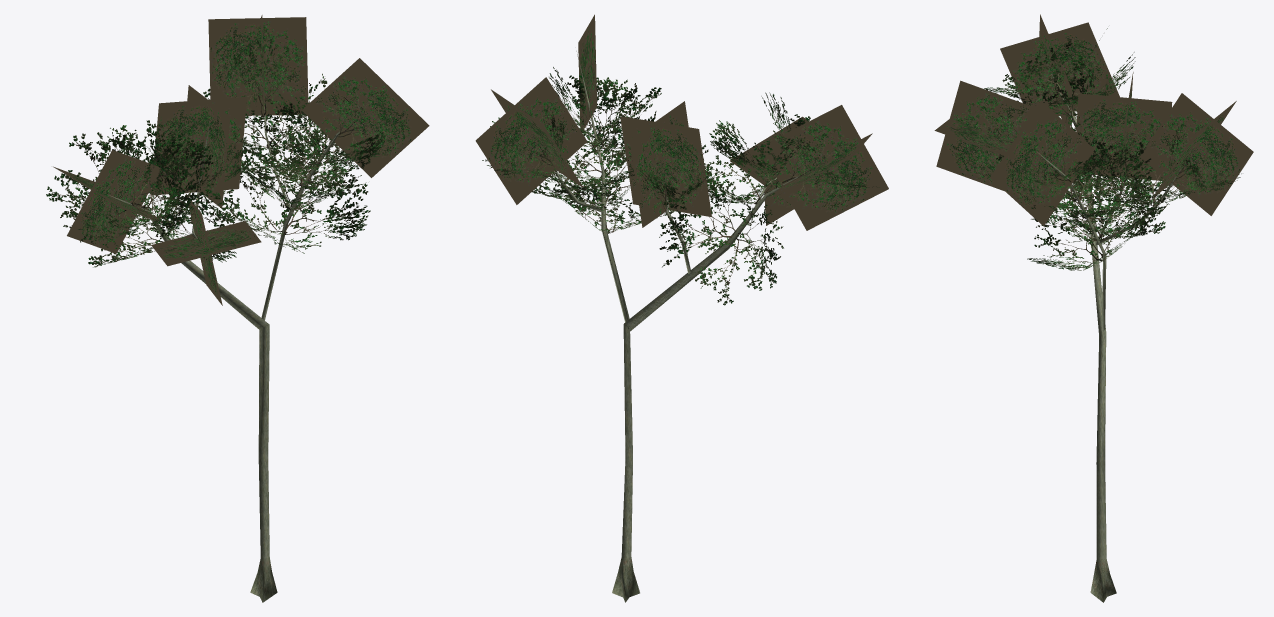
File: nboo_decd_cambylictustree_a1_l1.fbx
3 renders of one model, left to right at view 1: azimuth 30°, elevation 25°; view 2: azimuth 150°, elevation 25°; view 3: azimuth 270°, elevation 25°, orthographic. The views are drawn at different scales.
Visible parts, largest first — view 1: mesh_node; view 2: mesh_node; view 3: mesh_node.
Part boxes in pixels (<box>): mesh_node: <box>46,15,429,602</box>; mesh_node: <box>475,14,888,602</box>; mesh_node: <box>934,14,1253,602</box>.
Size of the model in its own units: 27.46 by 38.39 by 21.52.
